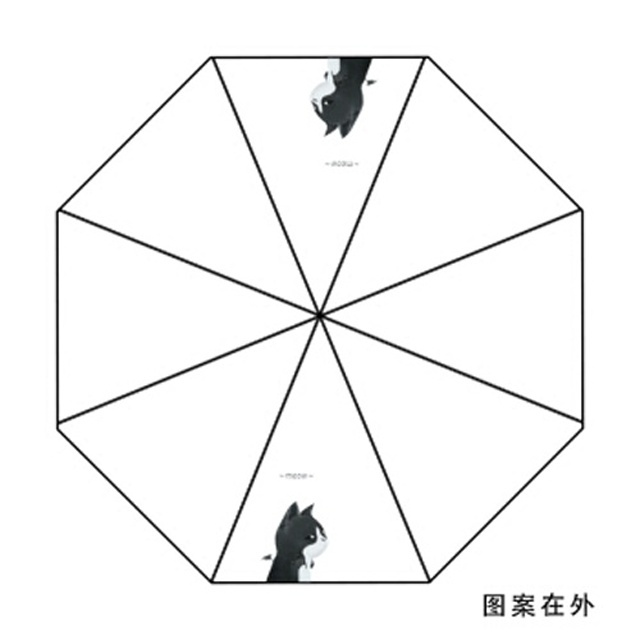umbrella: (50, 54, 594, 587)
